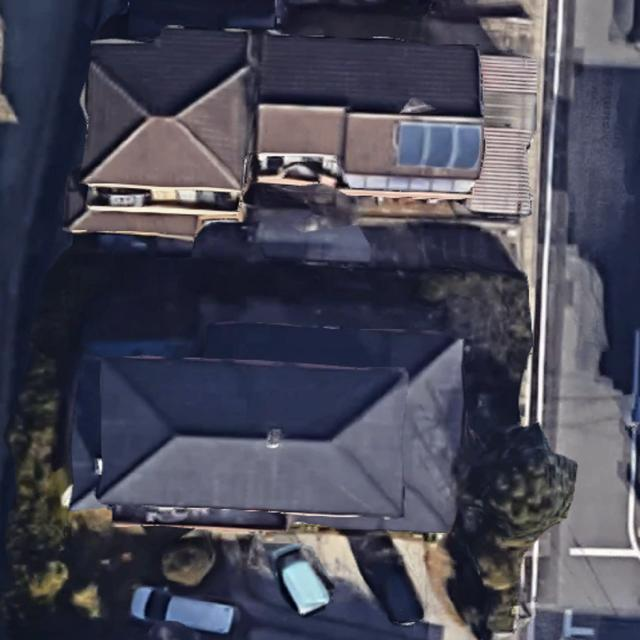Batiment: (70, 325, 464, 532), (69, 29, 254, 238), (258, 35, 484, 196)
